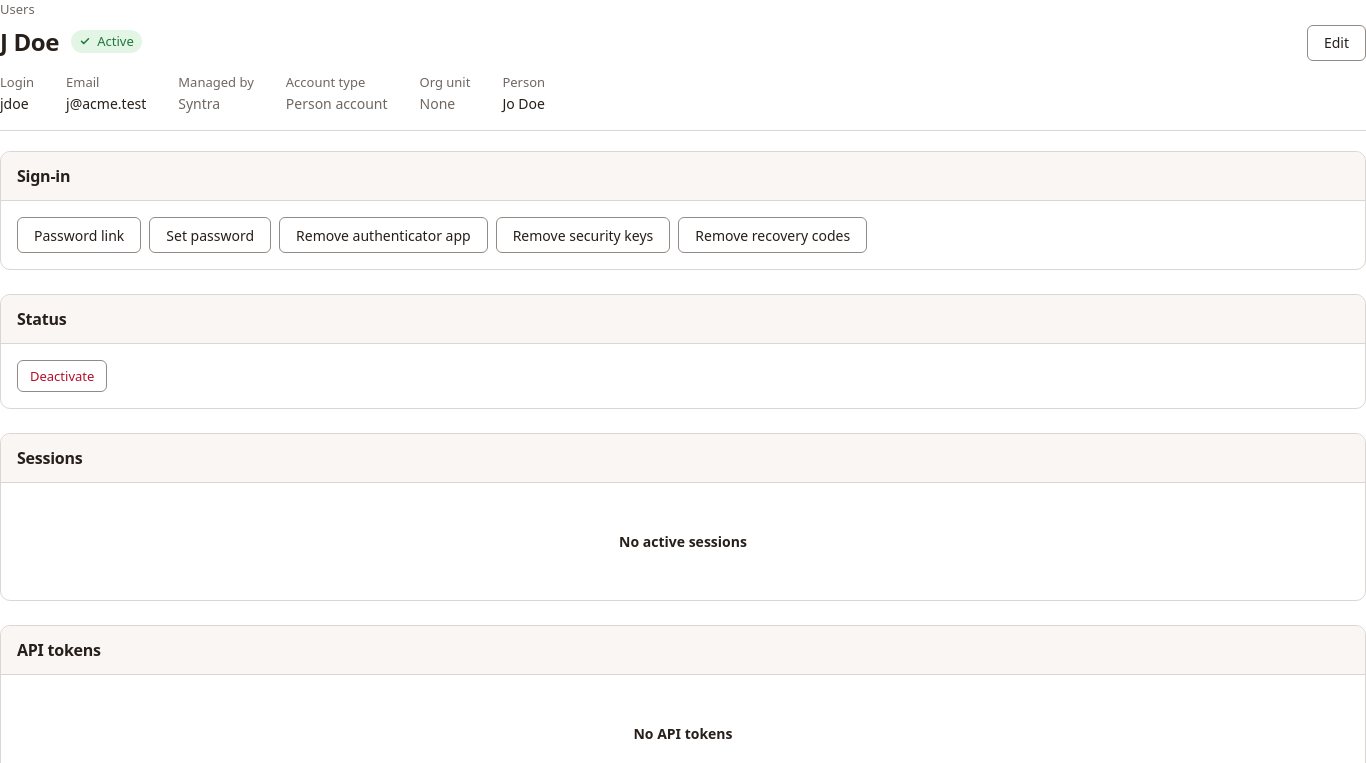
AccountDetailPage › editing › keeps the email editable for a linked account whose person has none
Check: the heading "J Doe" is shown, box [0, 25, 59, 58]
Click the button "Edit" at {"x": 1336, "y": 43}, box [1307, 25, 1365, 61]
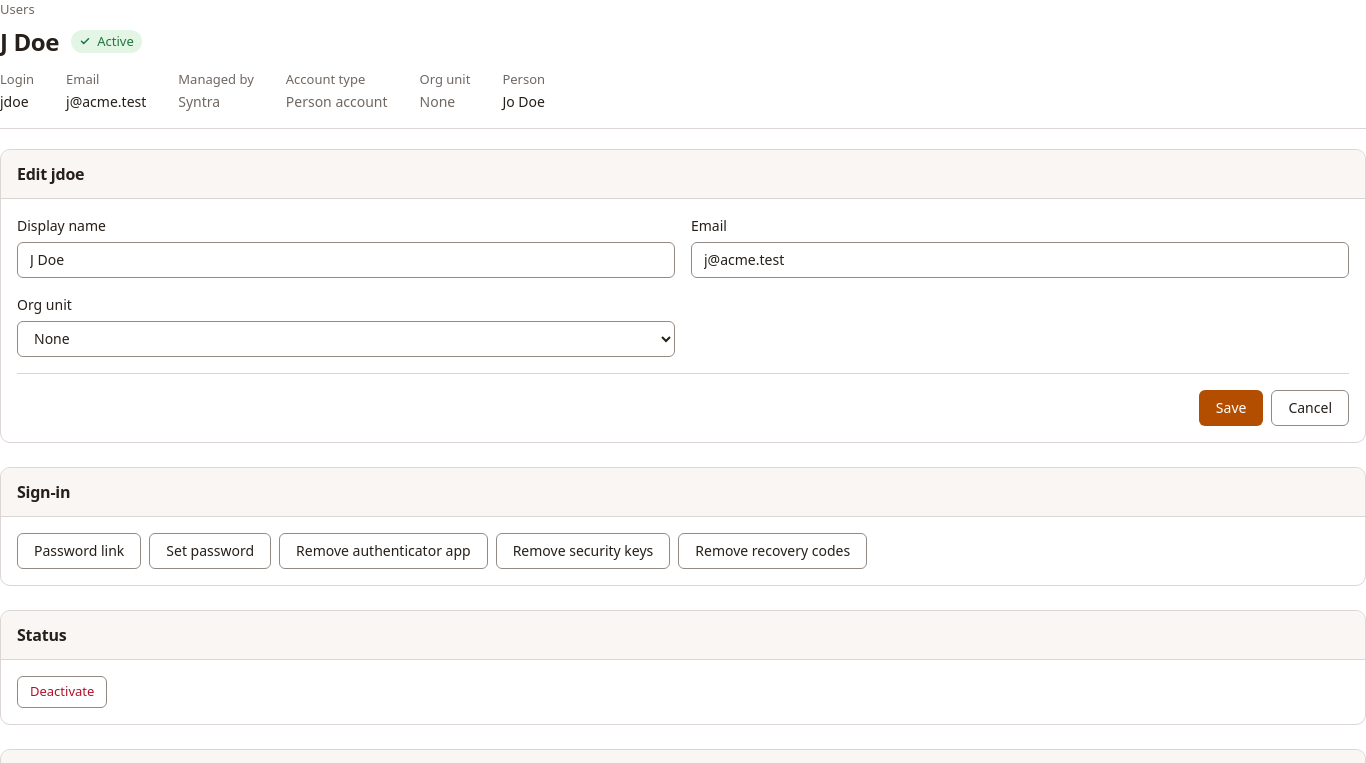
Check: the field labelled "Email" is enabled, box [691, 242, 1349, 278]
